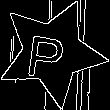P_N: (29, 25, 74, 80)
